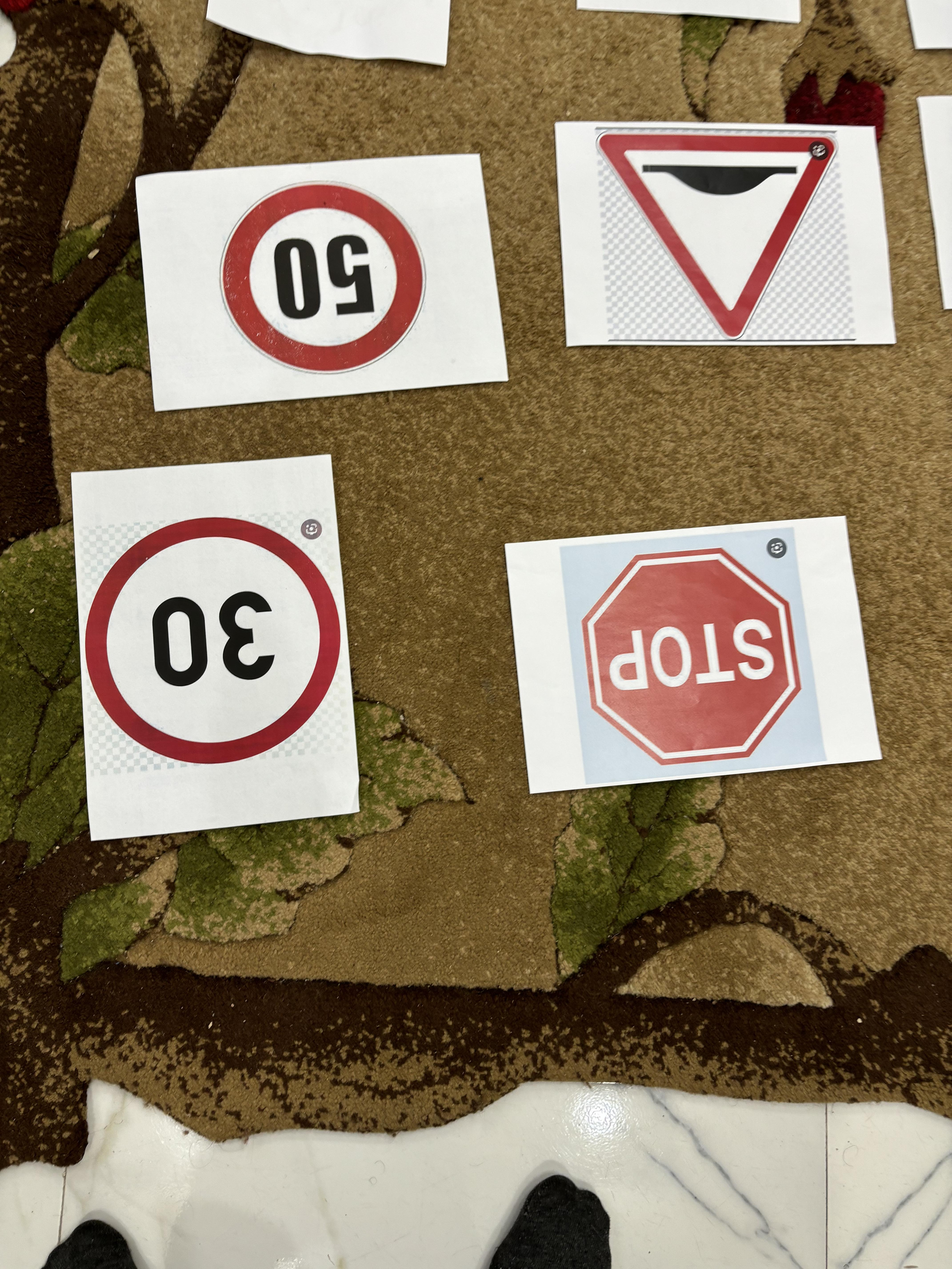30-speed: (83, 516, 340, 774)
50-Speed: (219, 189, 429, 371)
Hump: (584, 129, 863, 340)
Stop: (575, 545, 812, 769)
